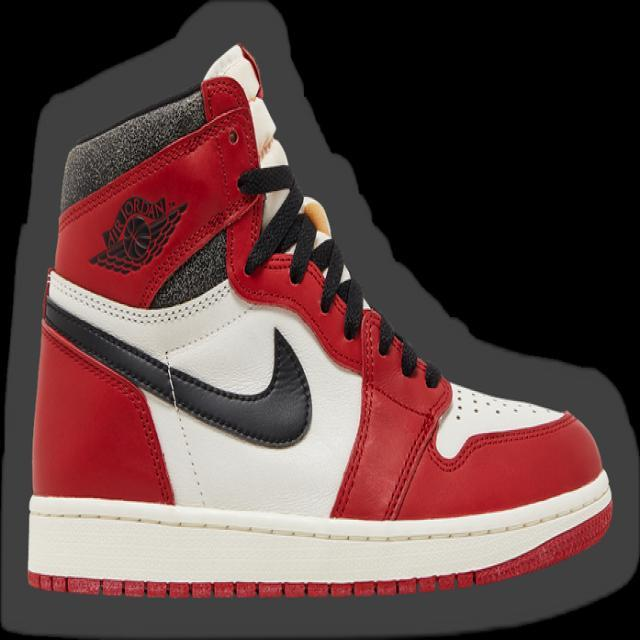J1_InsoleChar: (24, 41, 616, 600)
J1_ShoeLogo: (87, 193, 188, 275)
J1_StitchPattern: (40, 262, 568, 449), (236, 159, 566, 427), (24, 477, 615, 597), (40, 269, 312, 448), (235, 161, 365, 337), (25, 571, 479, 599), (44, 268, 233, 327), (293, 195, 365, 336), (236, 162, 319, 284), (156, 350, 210, 507), (448, 381, 562, 424)
